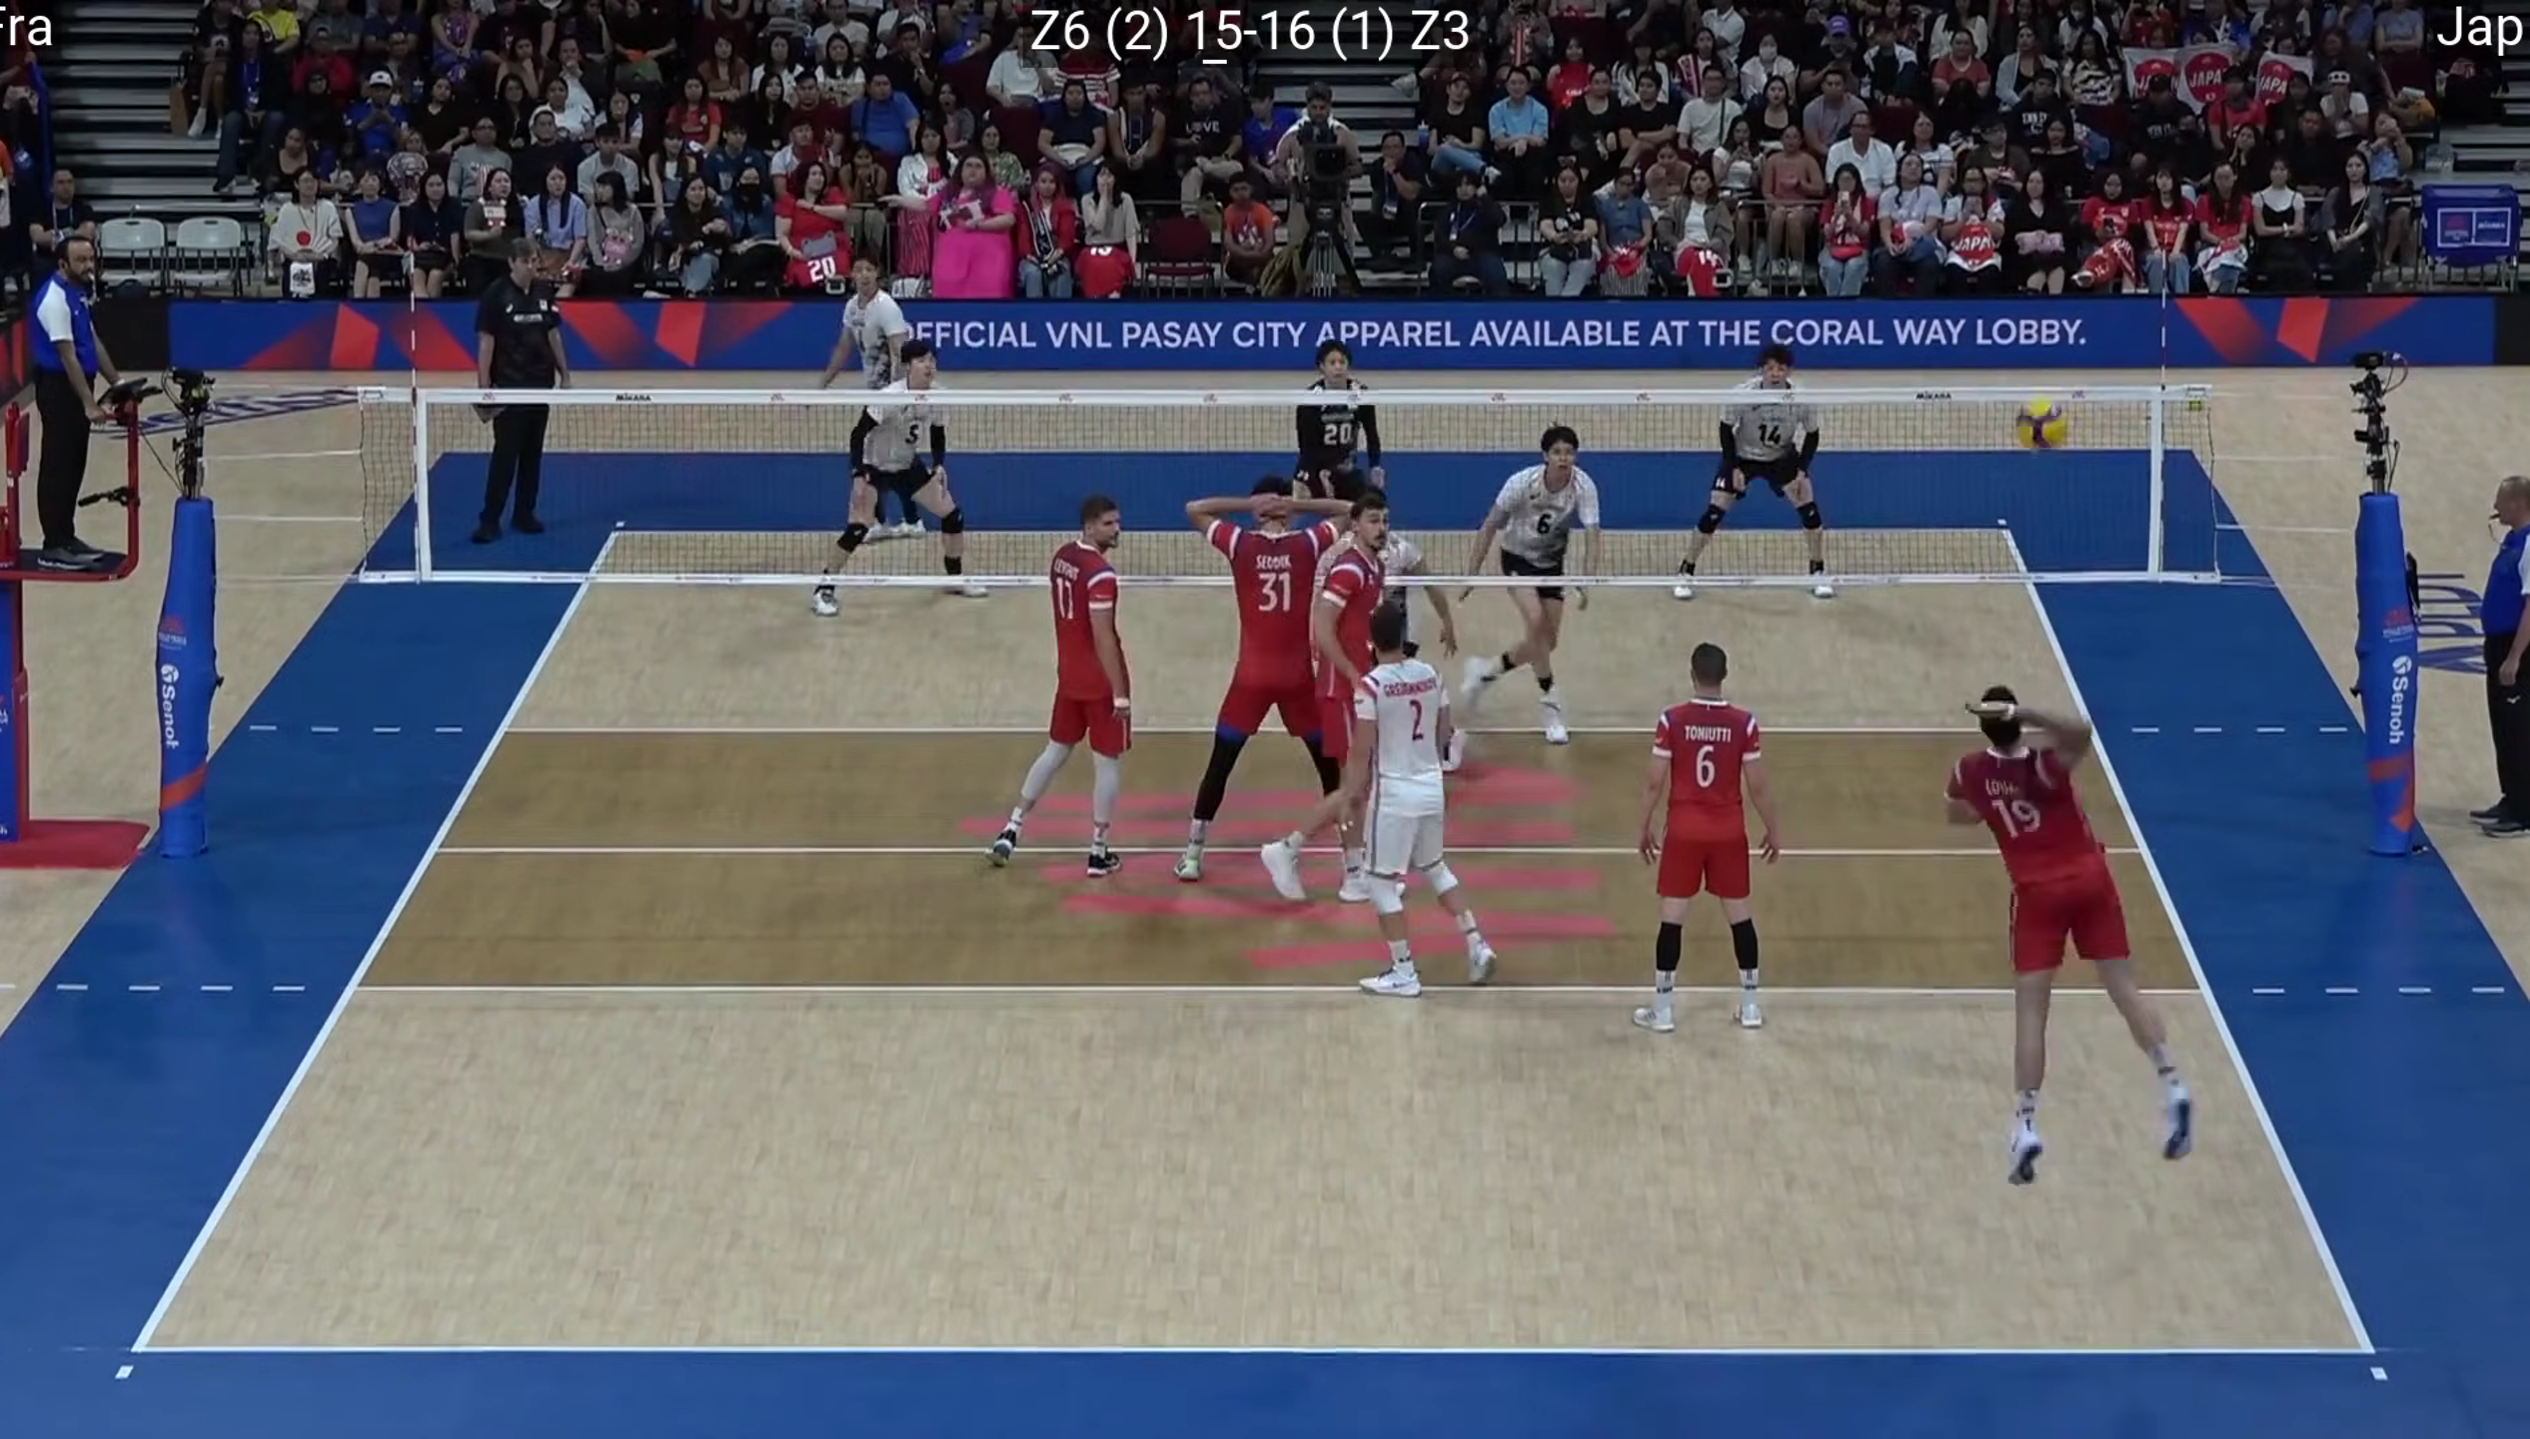Ball: (2014, 393, 2071, 452)
